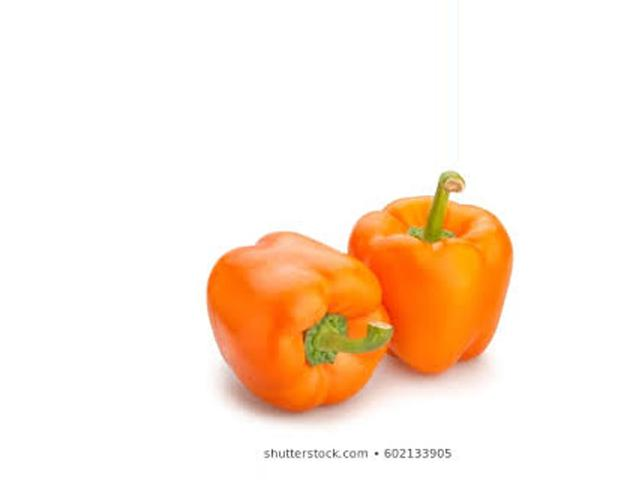bell_pepper: (200, 224, 397, 428)
